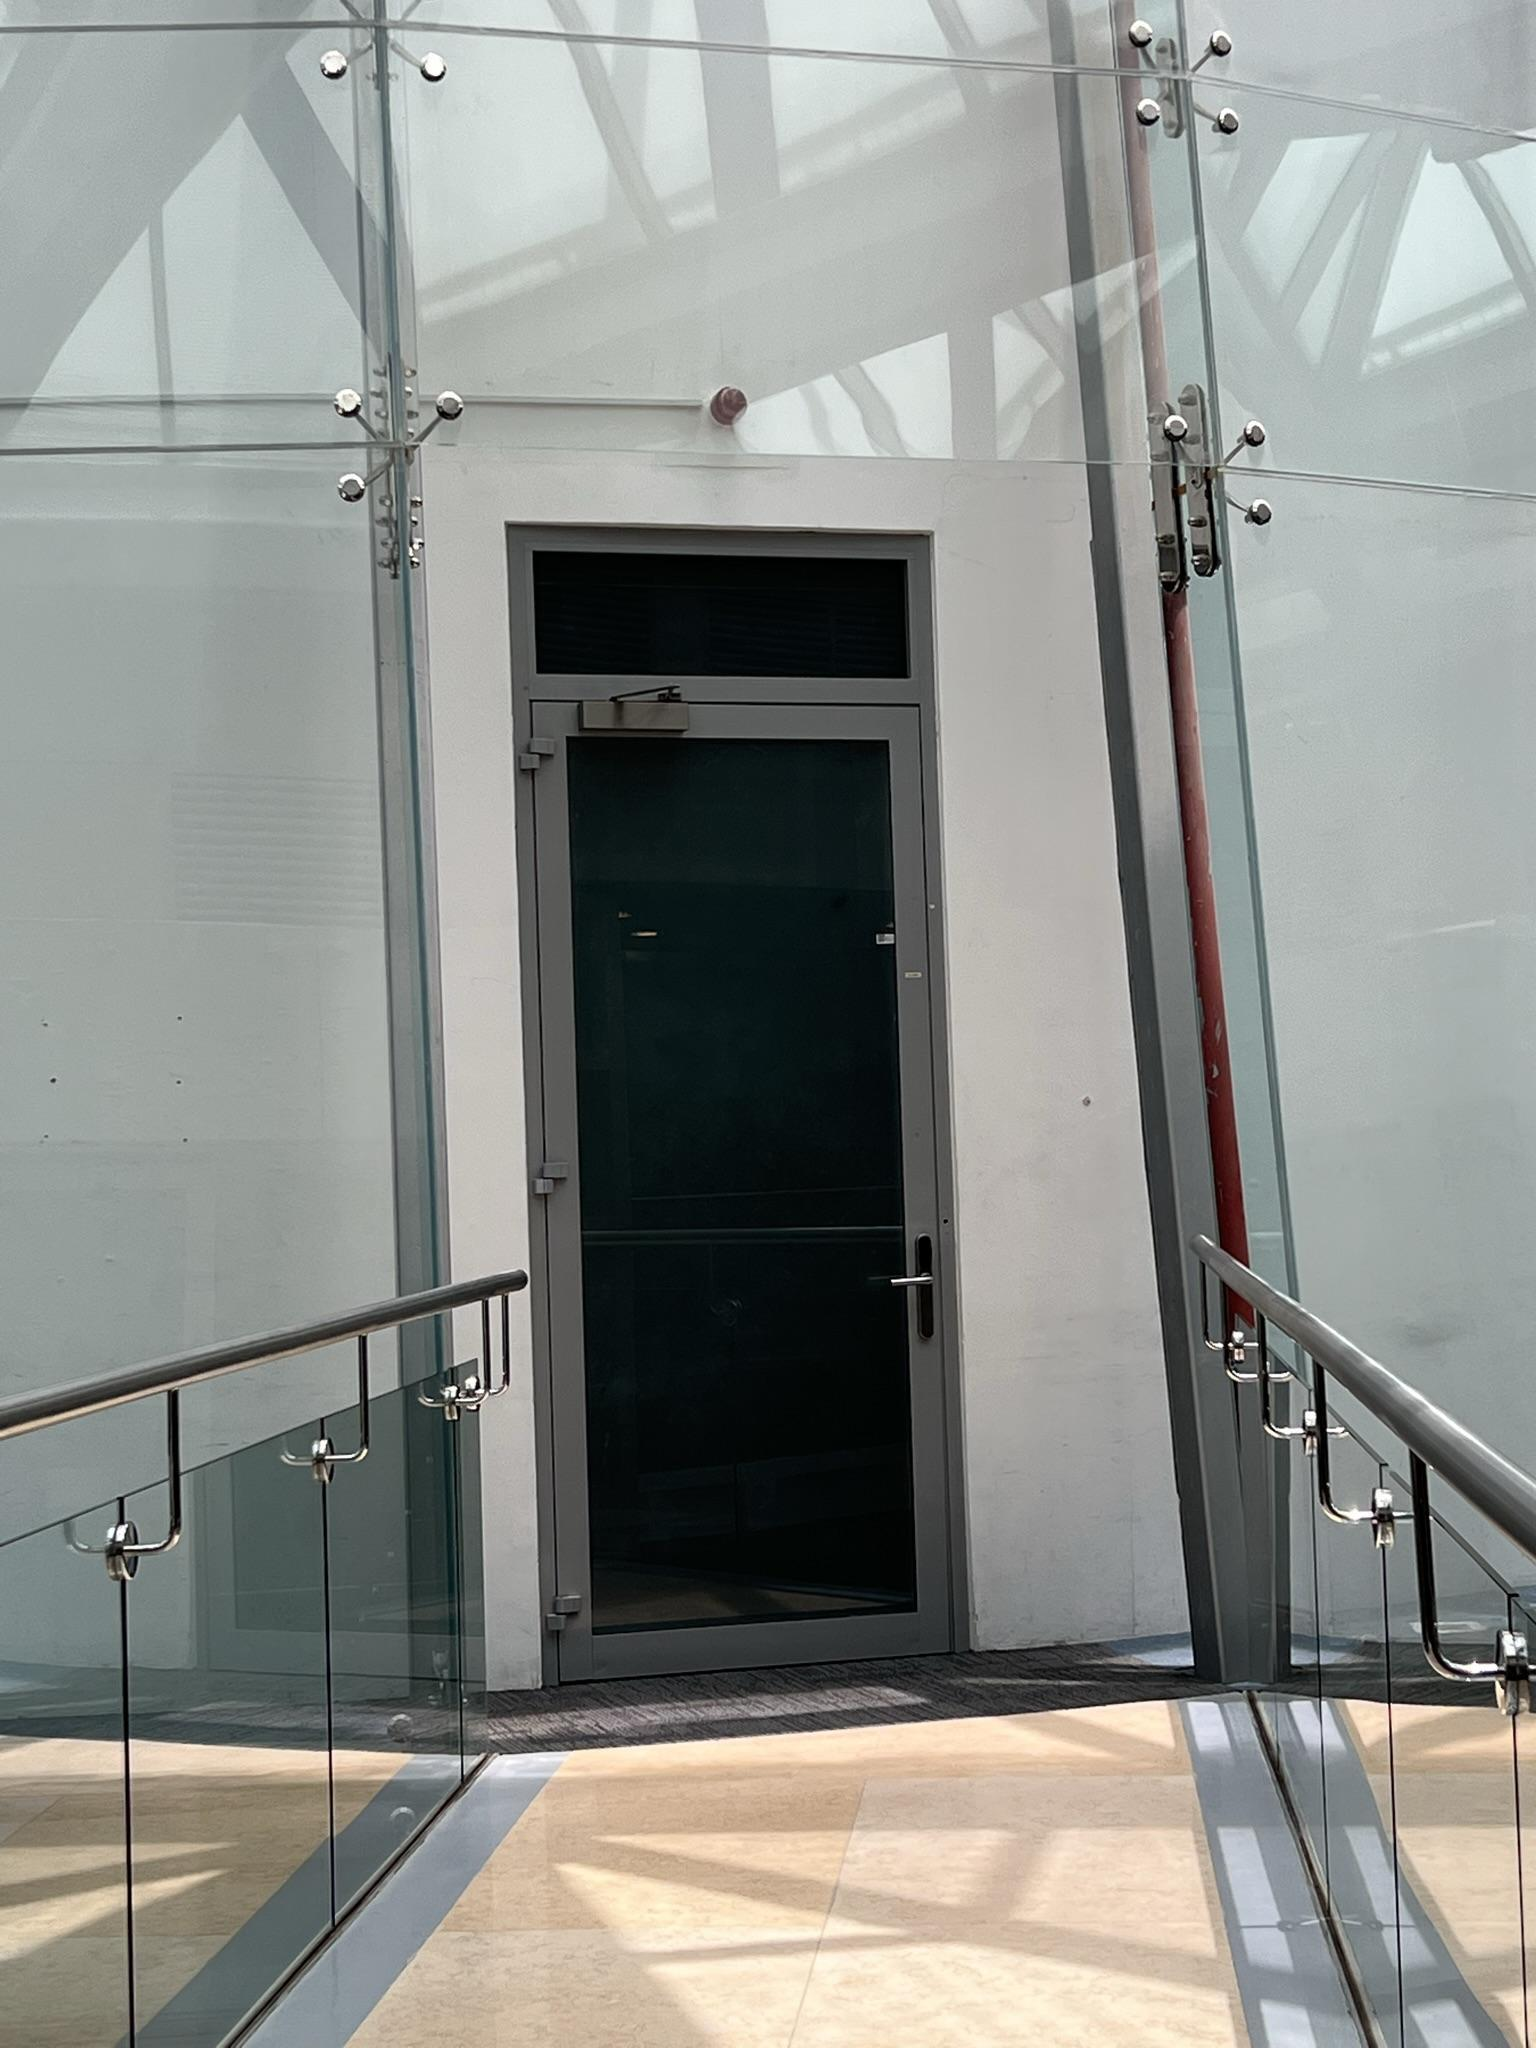door: (511, 516, 970, 1682)
handle: (887, 1221, 957, 1363)
